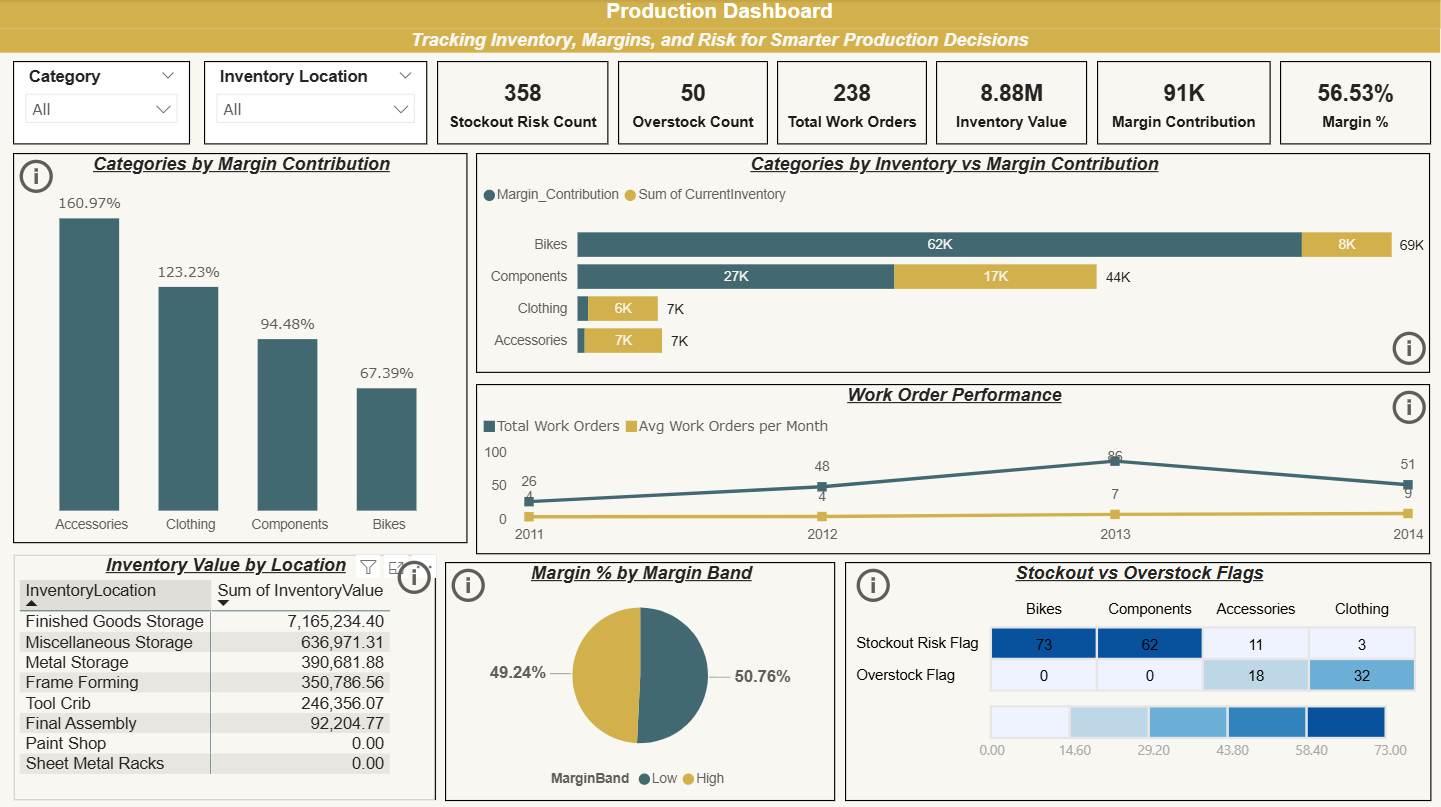

The dashboard page shown, as its layout file describes it:
{"tool":"powerbi","page":{"name":"Production","canvas":[1280,720],"ordinal":2},"visuals":[{"type":"card","fields":{"Values":["Sum(production.InventoryValue)"]},"box":[831.8,54.9,134,73.9],"z":0},{"type":"card","fields":{"Values":["ProductionMeasures.Stockout Risk Count"]},"box":[389.1,54.9,152,73.9],"z":1000},{"type":"card","fields":{"Values":["production.Margin %"]},"box":[1136.5,54.9,134,73.9],"z":2000},{"type":"card","fields":{"Values":["Sum(production.TotalWorkOrders)"]},"box":[690.6,54.9,133,73.9],"z":3000},{"type":"columnChart","title":"Categories by Margin Contribution","fields":{"Category":["production.Category"],"Y":["ProductionMeasures.Margin %"]},"box":[13.7,136.1,403.1,346.1],"z":4000},{"type":"barChart","title":"Categories by Inventory vs Margin Contribution","fields":{"Category":["production.Category"],"Y":["ProductionMeasures.Margin_Contribution","Sum(production.CurrentInventory)"]},"box":[424.2,136.2,846.4,195.5],"z":5000},{"type":"TableHeatMap1443716069308","title":"Stockout vs Overstock Flags","fields":{"Y":["Sum(production.StockoutRiskFlag)","Sum(production.OverstockFlag)"],"Category":["production.Category"]},"box":[751,499,520,212],"z":6000},{"type":"card","fields":{"Values":["ProductionMeasures.Overstock_Count"]},"box":[549.3,54.9,133,73.9],"z":7000},{"type":"card","fields":{"Values":["production.Margin_Contribution"]},"box":[974.1,54.9,154.1,73.9],"z":8000},{"type":"lineChart","title":"Work Order Performance","fields":{"Category":["Date.Year"],"Y":["ProductionMeasures.Total Work Orders","ProductionMeasures.Avg Work Orders per Month"]},"box":[424.2,341.1,846.4,150.8],"z":9000},{"type":"pieChart","title":"Margin % by Margin Band","fields":{"Category":["production.MarginBand"],"Y":["Sum(production.EstimatedMarginValue)"]},"box":[396.2,499.1,346.3,212.1],"z":10000},{"type":"pivotTable","title":"Inventory Value by Location","fields":{"Rows":["production.InventoryLocation"],"Values":["Sum(production.InventoryValue)"]},"box":[13.5,491.8,375.4,219.4],"z":11000},{"type":"shape","title":"Production Dashboard","box":[0,0,1279.6,47.6],"z":12000},{"type":"slicer","fields":{"Values":["production.Category"]},"box":[13.7,54.9,157.2,73.9],"z":13000},{"type":"slicer","fields":{"Values":["production.InventoryLocation"]},"box":[182.6,54.9,198.4,73.9],"z":14000},{"type":"actionButton","box":[14.1,136.4,39.4,40.4],"z":15000},{"type":"actionButton","box":[1231.5,288.9,39.4,40.4],"z":16000},{"type":"actionButton","box":[1231.5,341.5,39.4,40.4],"z":17000},{"type":"actionButton","box":[349.6,492,39.4,40.4],"z":18000},{"type":"actionButton","box":[397,499.1,39.4,40.4],"z":19000},{"type":"actionButton","box":[756.7,499.1,39.4,40.4],"z":20000}]}

Visuals, with their boxes in screenshot pixels (x1, y1, x2, y2), scaled from the page's 1280x720 canvas onto the 1441x807 screenshot:
card - Sum(production.InventoryValue): bbox=(936, 62, 1087, 144)
card - ProductionMeasures.Stockout Risk Count: bbox=(438, 62, 609, 144)
card - production.Margin %: bbox=(1279, 62, 1430, 144)
card - Sum(production.TotalWorkOrders): bbox=(777, 62, 927, 144)
"Categories by Margin Contribution" columnChart: bbox=(15, 153, 469, 540)
"Categories by Inventory vs Margin Contribution" barChart: bbox=(478, 153, 1430, 372)
"Stockout vs Overstock Flags" TableHeatMap1443716069308: bbox=(845, 559, 1431, 797)
card - ProductionMeasures.Overstock_Count: bbox=(618, 62, 768, 144)
card - production.Margin_Contribution: bbox=(1097, 62, 1270, 144)
"Work Order Performance" lineChart: bbox=(478, 382, 1430, 551)
"Margin % by Margin Band" pieChart: bbox=(446, 559, 836, 797)
"Inventory Value by Location" pivotTable: bbox=(15, 551, 438, 797)
"Production Dashboard" shape: bbox=(0, 0, 1440, 53)
slicer - production.Category: bbox=(15, 62, 192, 144)
slicer - production.InventoryLocation: bbox=(206, 62, 429, 144)
actionButton: bbox=(16, 153, 60, 198)
actionButton: bbox=(1386, 324, 1431, 369)
actionButton: bbox=(1386, 383, 1431, 428)
actionButton: bbox=(394, 551, 438, 597)
actionButton: bbox=(447, 559, 491, 605)
actionButton: bbox=(852, 559, 896, 605)
